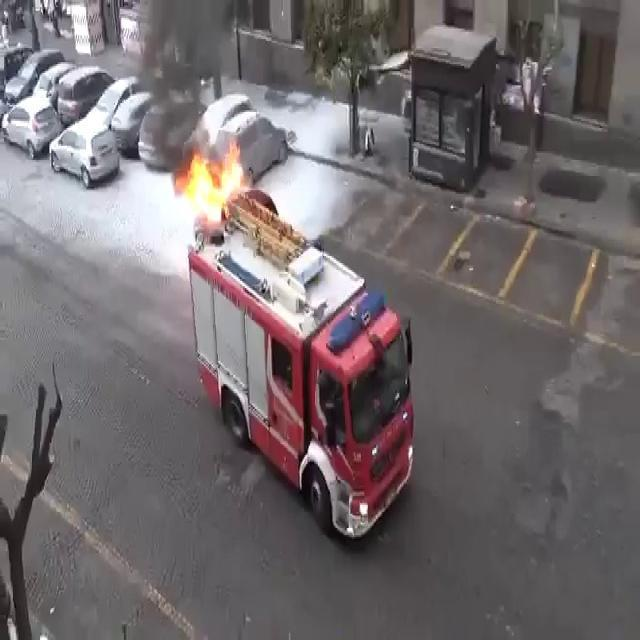Fire: (175, 143, 248, 227)
Smoke: (117, 1, 216, 152)
